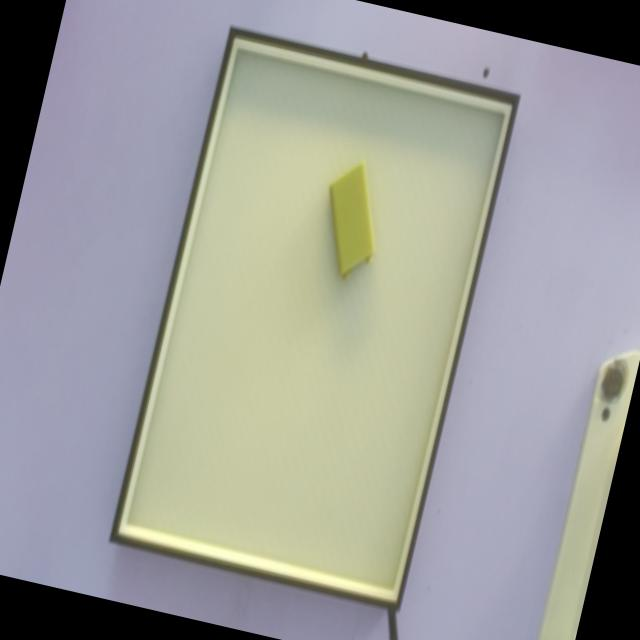bateria: (327, 163, 375, 279)
mesa: (108, 27, 519, 612)
